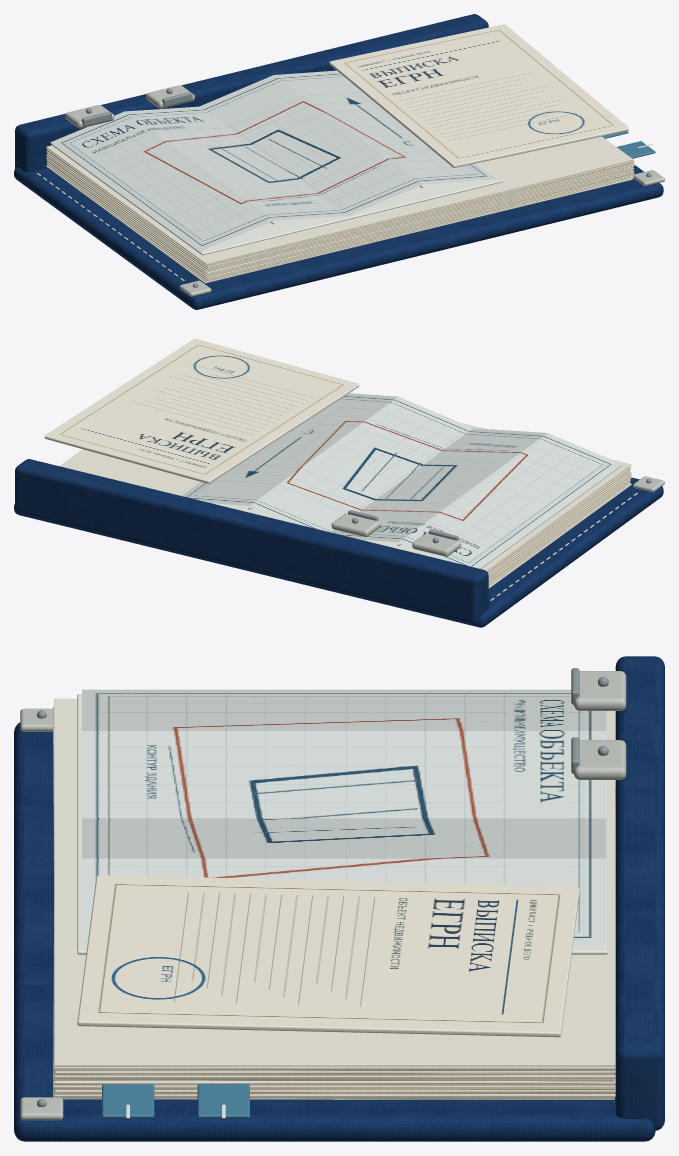
3 views of the same model, one above another, from view 1: azimuth 30°, elevation 25°; view 2: azimuth 150°, elevation 25°; view 3: azimuth 270°, elevation 25° (orthographic). The views are drawn at different scales.
Visible parts, largest first — view 1: Physical folded architectural plan, Document · ВЫПИСКА ЕГРН, Cobalt linen portfolio, Property deed leaf 17, Rear folded cover lip, Folded map backing, Property deed leaf 01, Property deed leaf 11, Property deed leaf 06, Property deed leaf 02, Property deed leaf 10, Property deed leaf 15 (+13 smaller); view 2: Physical folded architectural plan, Rear folded cover lip, Document · ВЫПИСКА ЕГРН, Cobalt linen portfolio, Property deed leaf 17, Separate EGRN sheet, Folded map backing, Nickel plan clip.001, Nickel plan clip; view 3: Physical folded architectural plan, Document · ВЫПИСКА ЕГРН, Cobalt linen portfolio, Property deed leaf 17, Rear folded cover lip, Separate EGRN sheet, Property deed leaf 16, Property deed leaf 12, Property deed leaf 14, Folded map backing, Property deed leaf 09, Nickel plan clip.001 (+17 smaller).
Part boxes in pixels (x1=…): Physical folded architectural plan: x1=50, y1=70, x2=496, y2=251; Document · ВЫПИСКА ЕГРН: x1=329, y1=24, x2=627, y2=164; Cobalt linen portfolio: x1=14, y1=165, x2=663, y2=309; Property deed leaf 17: x1=46, y1=136, x2=633, y2=264; Rear folded cover lip: x1=15, y1=14, x2=488, y2=172; Folded map backing: x1=51, y1=144, x2=502, y2=255; Property deed leaf 01: x1=46, y1=165, x2=632, y2=283; Property deed leaf 11: x1=47, y1=153, x2=633, y2=271; Property deed leaf 06: x1=46, y1=159, x2=633, y2=277; Property deed leaf 02: x1=47, y1=164, x2=633, y2=281; Property deed leaf 10: x1=46, y1=155, x2=632, y2=272; Property deed leaf 15: x1=46, y1=148, x2=633, y2=266; Physical folded architectural plan: x1=181, y1=393, x2=621, y2=568; Rear folded cover lip: x1=15, y1=459, x2=488, y2=624; Document · ВЫПИСКА ЕГРН: x1=45, y1=338, x2=358, y2=480; Cobalt linen portfolio: x1=14, y1=477, x2=663, y2=627; Property deed leaf 17: x1=60, y1=423, x2=631, y2=570; Separate EGRN sheet: x1=44, y1=384, x2=359, y2=483; Folded map backing: x1=179, y1=465, x2=621, y2=568; Nickel plan clip.001: x1=331, y1=513, x2=380, y2=536; Nickel plan clip: x1=412, y1=533, x2=461, y2=556; Physical folded architectural plan: x1=82, y1=689, x2=606, y2=945; Document · ВЫПИСКА ЕГРН: x1=79, y1=875, x2=578, y2=1031; Cobalt linen portfolio: x1=14, y1=722, x2=655, y2=1141; Property deed leaf 17: x1=54, y1=698, x2=615, y2=1066; Rear folded cover lip: x1=615, y1=656, x2=664, y2=1130; Separate EGRN sheet: x1=77, y1=876, x2=579, y2=1037; Property deed leaf 16: x1=54, y1=711, x2=615, y2=1069; Property deed leaf 12: x1=54, y1=1070, x2=615, y2=1078; Property deed leaf 14: x1=53, y1=706, x2=615, y2=1074; Folded map backing: x1=77, y1=694, x2=607, y2=954; Property deed leaf 09: x1=55, y1=1078, x2=615, y2=1084; Nickel plan clip.001: x1=574, y1=740, x2=626, y2=779.
Bounding box in the file's own units: 3.24 × 0.4195 × 2.11.
9 materials, 4 textured.
